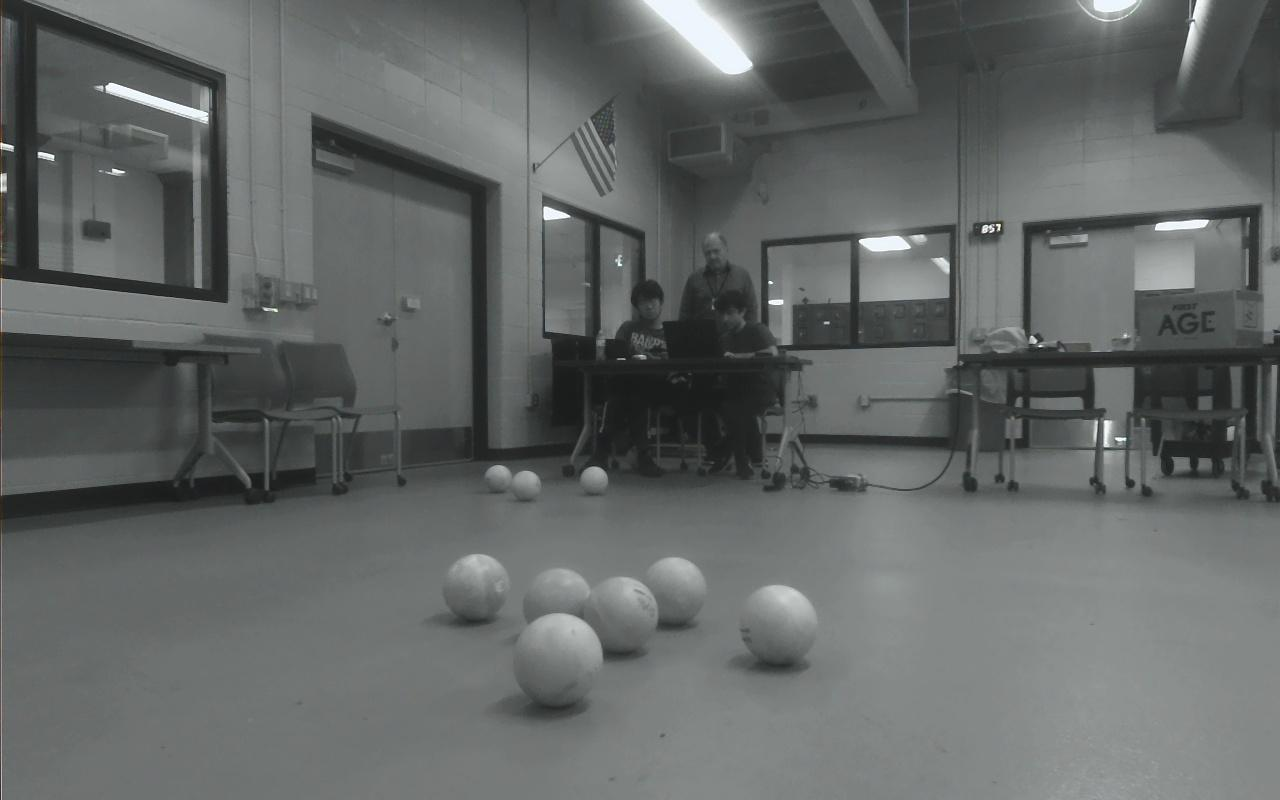Fuel: (512, 612, 604, 709), (739, 585, 818, 666), (584, 576, 659, 654), (524, 568, 593, 637), (442, 553, 509, 623), (643, 557, 708, 626), (511, 470, 540, 501), (580, 466, 608, 495), (484, 465, 512, 493)
